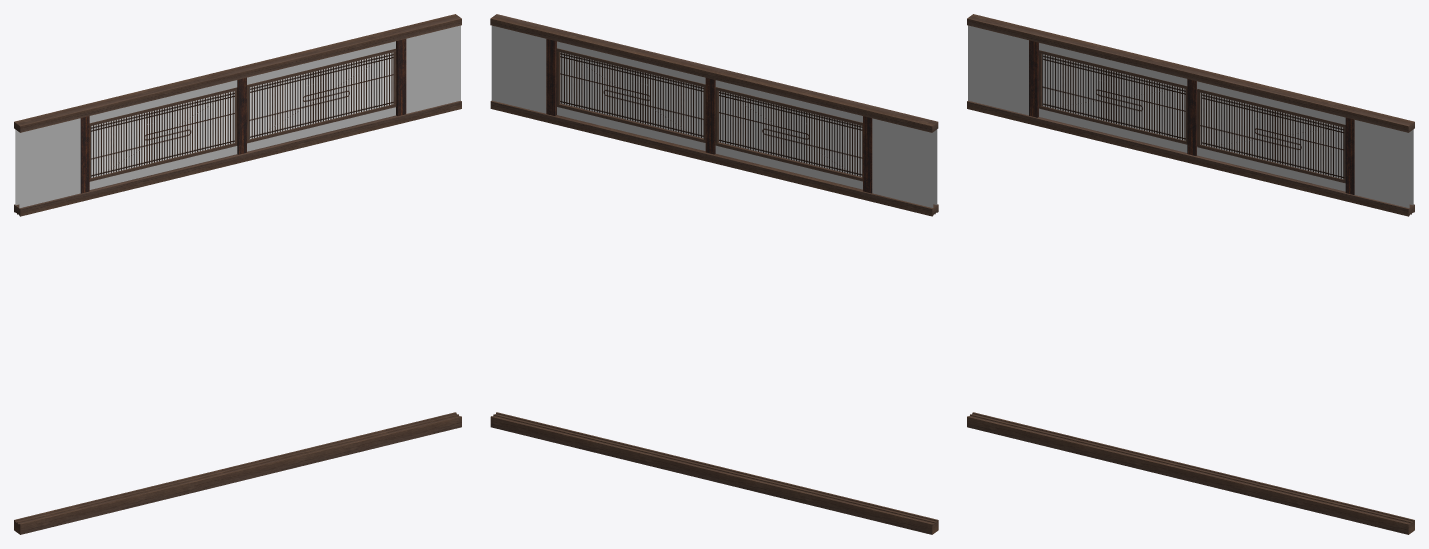
File: jov_inwall_ranma_1.5t06.fbx
The picture shows the model from 3 angles, left to right: view 1: azimuth 30°, elevation 25°; view 2: azimuth 150°, elevation 25°; view 3: azimuth 330°, elevation 25°; orthographic projection.
Visible parts, largest first — view 1: jov_inwall_ranma_1.5t06; view 2: jov_inwall_ranma_1.5t06; view 3: jov_inwall_ranma_1.5t06.
Part boxes in pixels (x1,y1,x2,y2): jov_inwall_ranma_1.5t06: [14, 14, 461, 534]; jov_inwall_ranma_1.5t06: [490, 14, 938, 534]; jov_inwall_ranma_1.5t06: [967, 14, 1414, 534].
Bounding box in the file's own units: 330 × 292 × 8.22.
